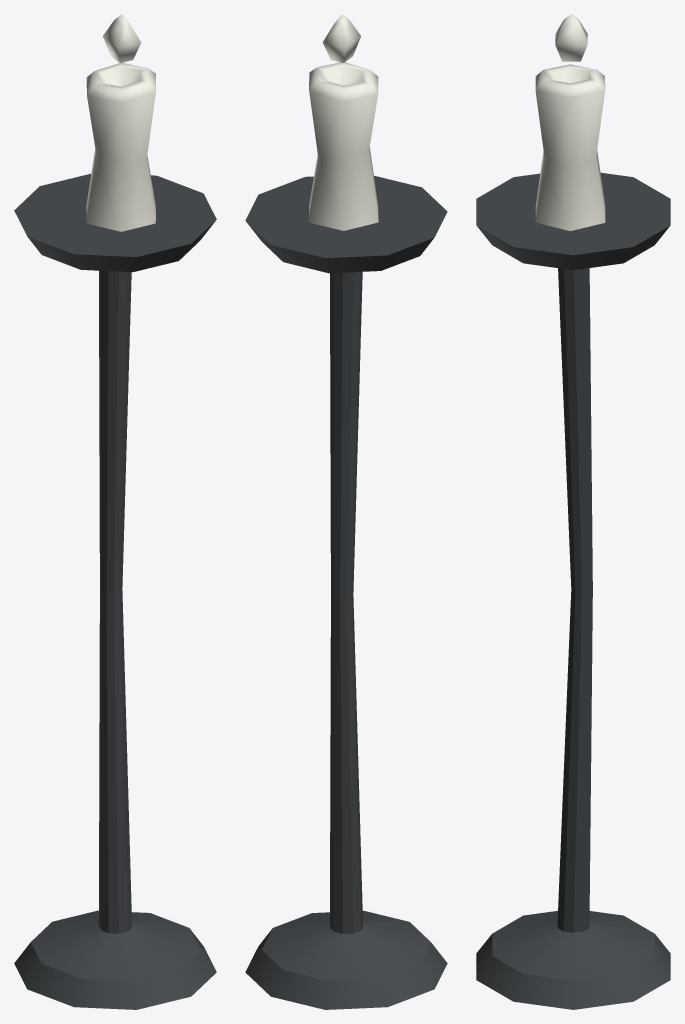
File: M_chandelier.FBX
3 renders of one model, left to right at view 1: azimuth 30°, elevation 25°; view 2: azimuth 150°, elevation 25°; view 3: azimuth 270°, elevation 25°, orthographic.
Visible parts, largest first — view 1: Cylinder001, Box002; view 2: Cylinder001, Box002; view 3: Cylinder001, Box002.
Part boxes in pixels (x1,y1,x2,y2): Cylinder001: (14, 62, 216, 1009); Box002: (103, 14, 141, 63); Cylinder001: (245, 62, 447, 1009); Box002: (322, 14, 360, 62); Cylinder001: (476, 64, 670, 1009); Box002: (555, 14, 587, 61).
Bounding box in the file's own units: 33.92 × 175 × 32.26.
